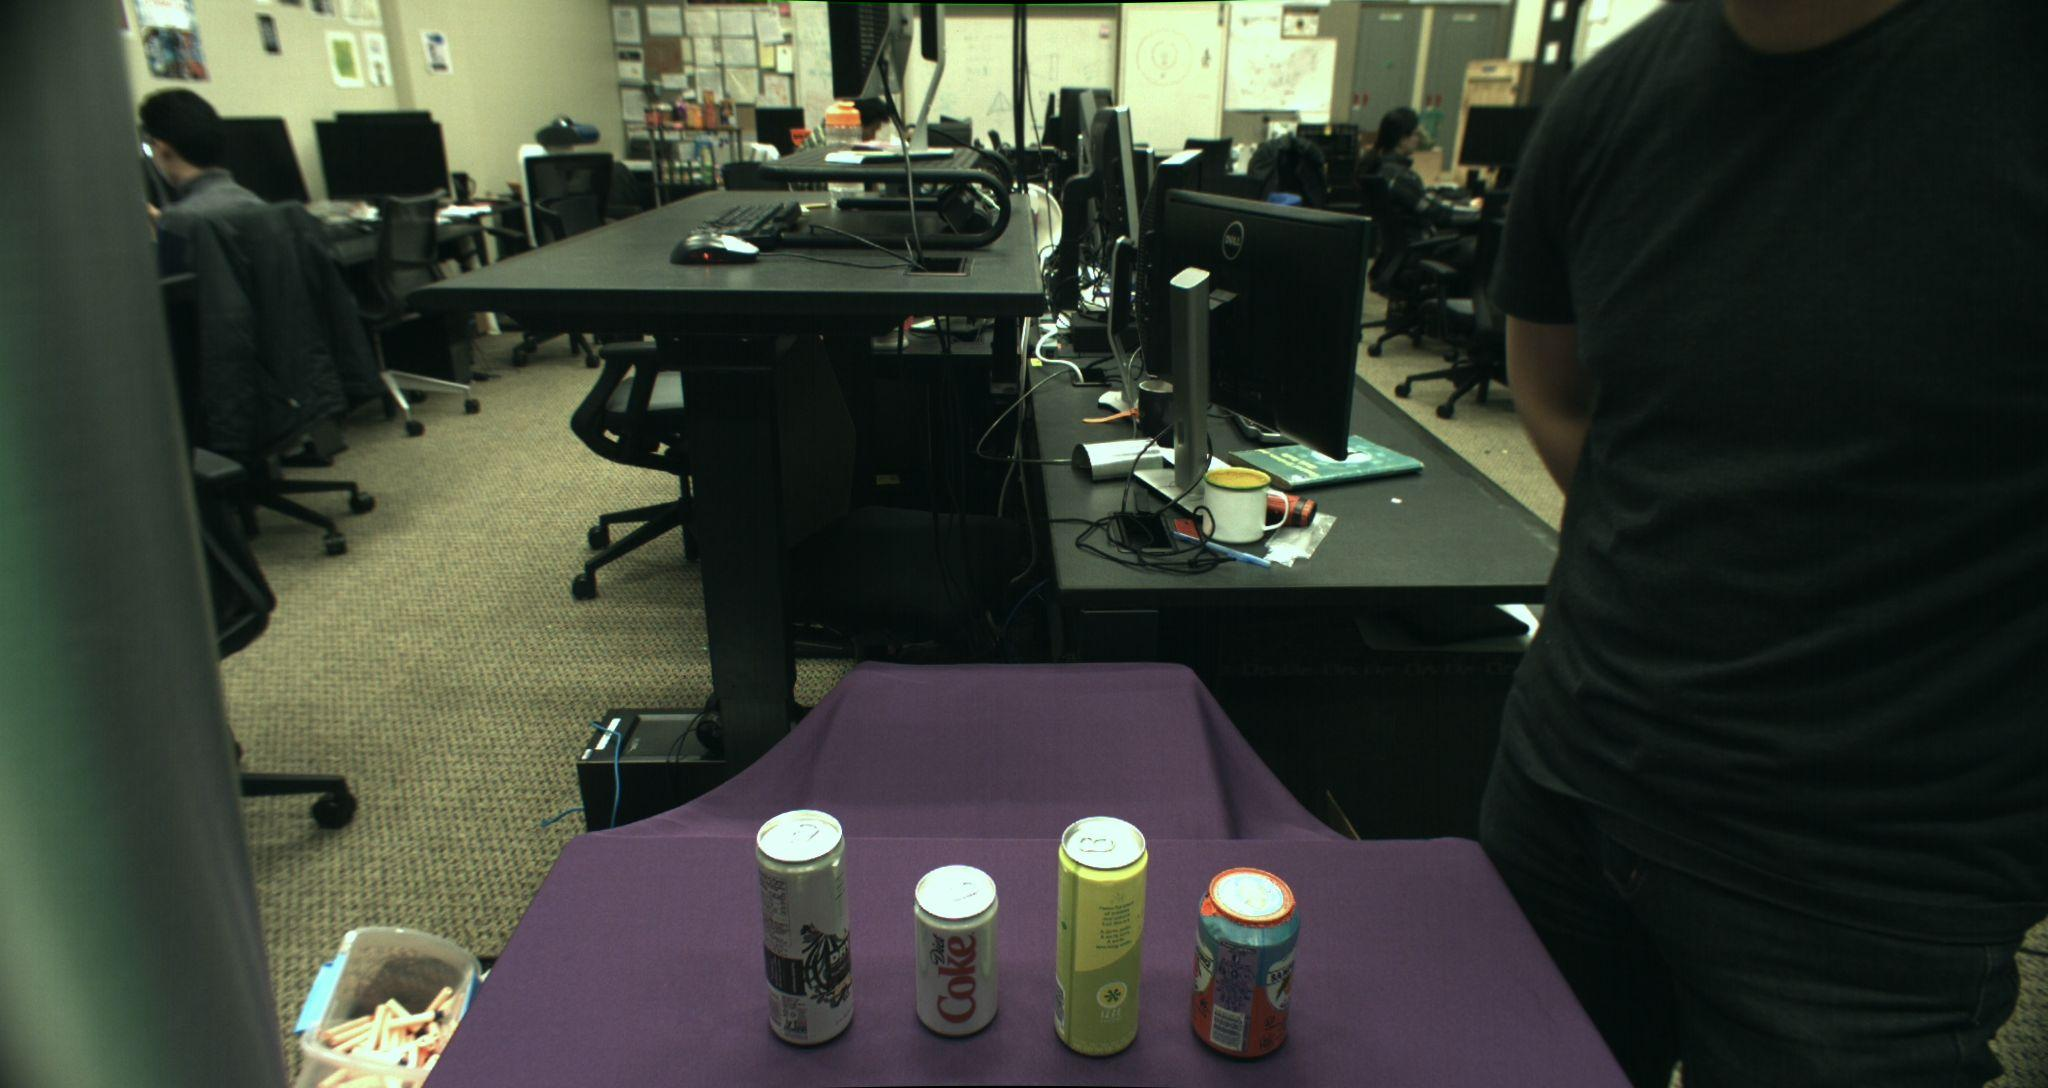can_diet_coke_small: (912, 863, 1001, 1038)
can_dry_sparkling_vanilla_bean: (754, 808, 853, 1045)
can_izze_fusions_lemon_lime: (1054, 816, 1149, 1058)
can_sanpellegrino_blood_orange: (1191, 863, 1302, 1060)
